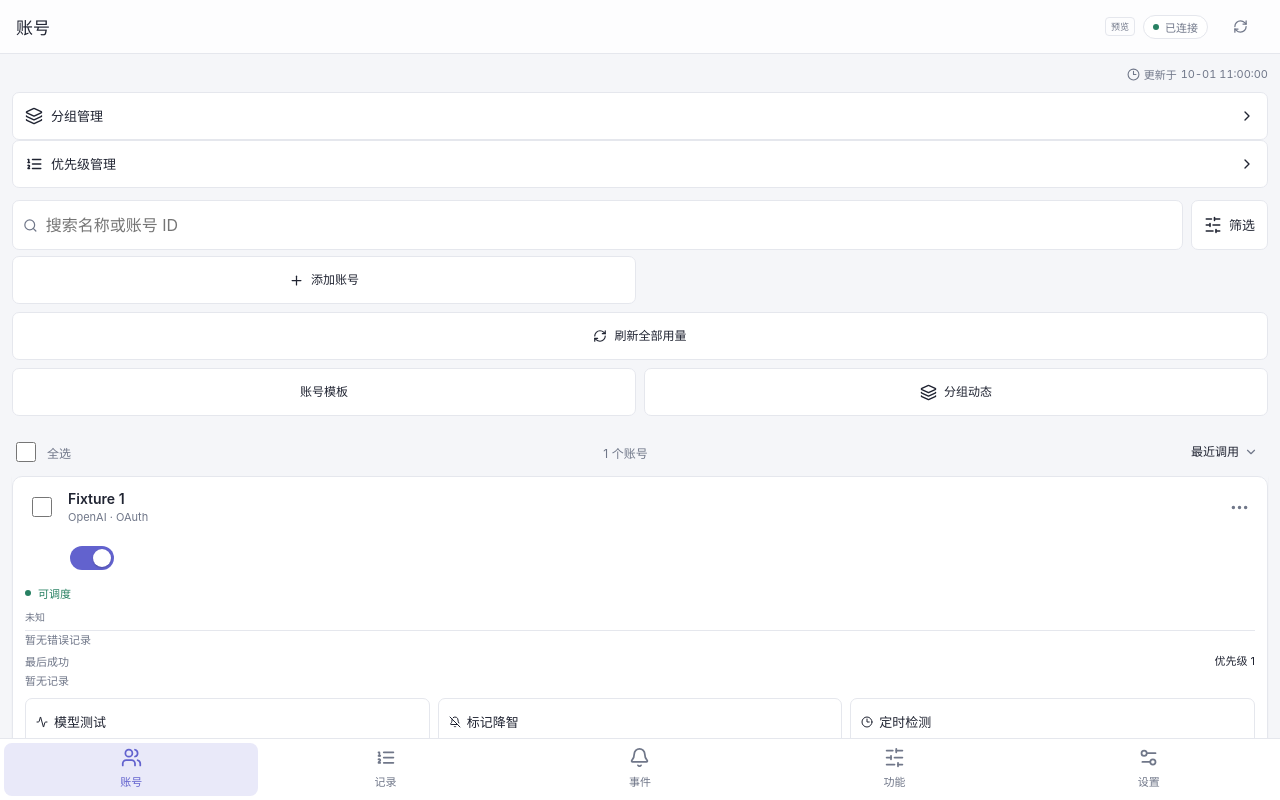
shared account actions › opens and closes account keepalive from the android account actions
Click the button named "Fixture 1操作" at (1239, 507), box [1215,483,1263,531]
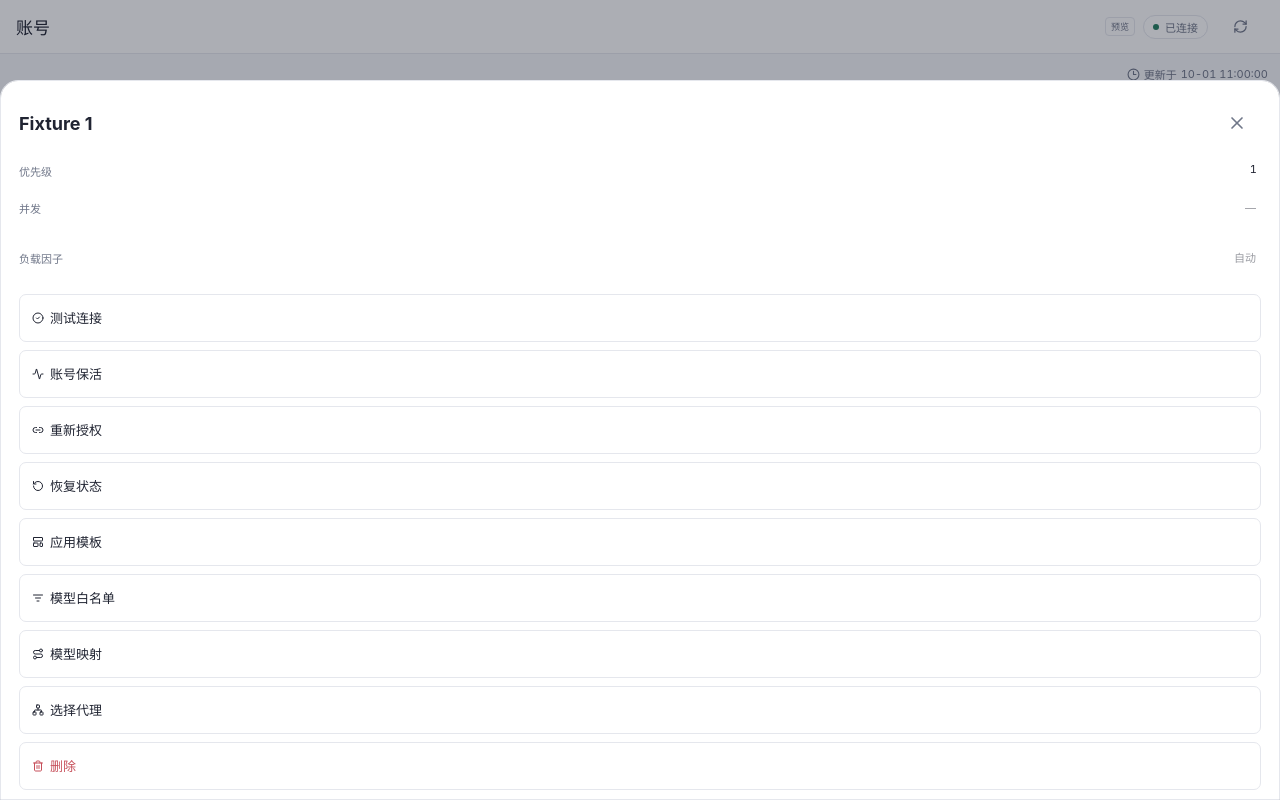
Check: the dialog with class "mobile-action-sheet" is shown
Click the button "账号保活" at (76, 374), box [19,350,1261,398]
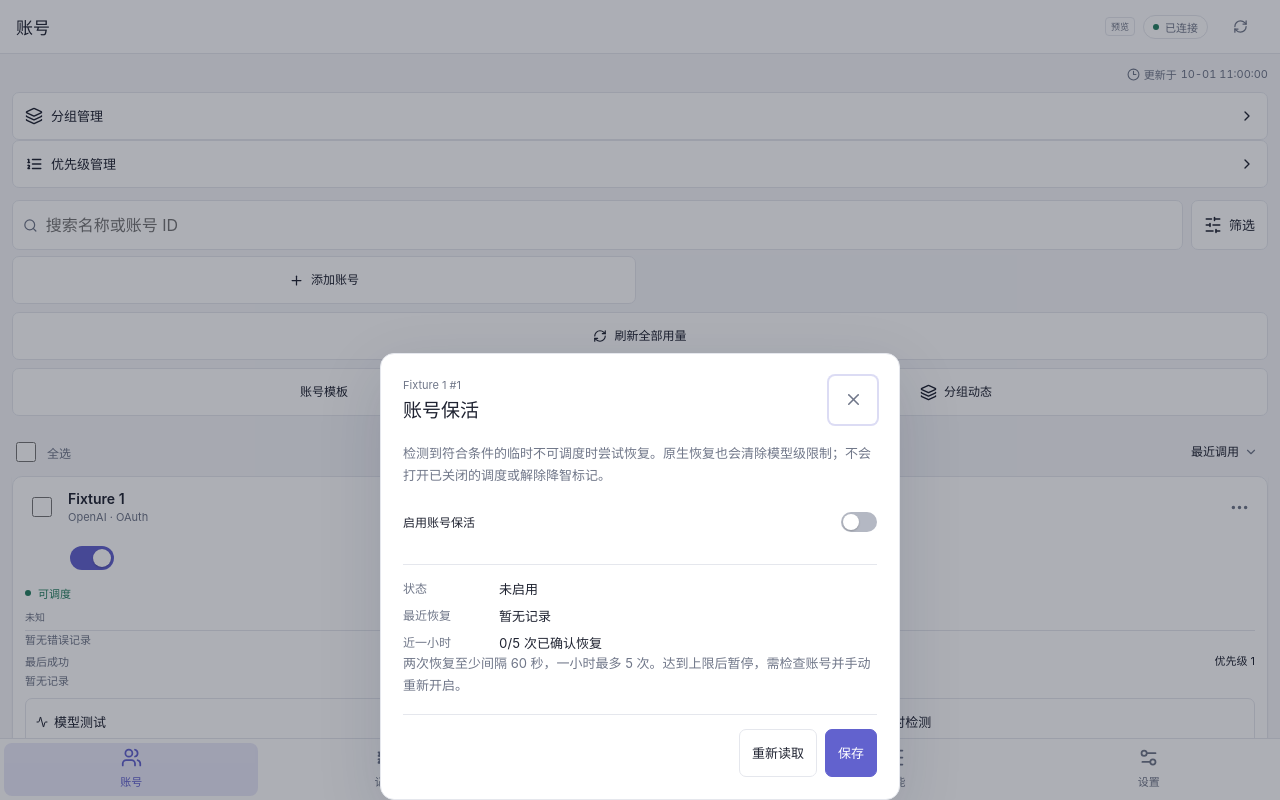
Check: the dialog named "账号保活" shows "Fixture 1", box [403,378,446,392]
Click the button named "关闭账号保活" at (853, 400), box [829,376,877,424]
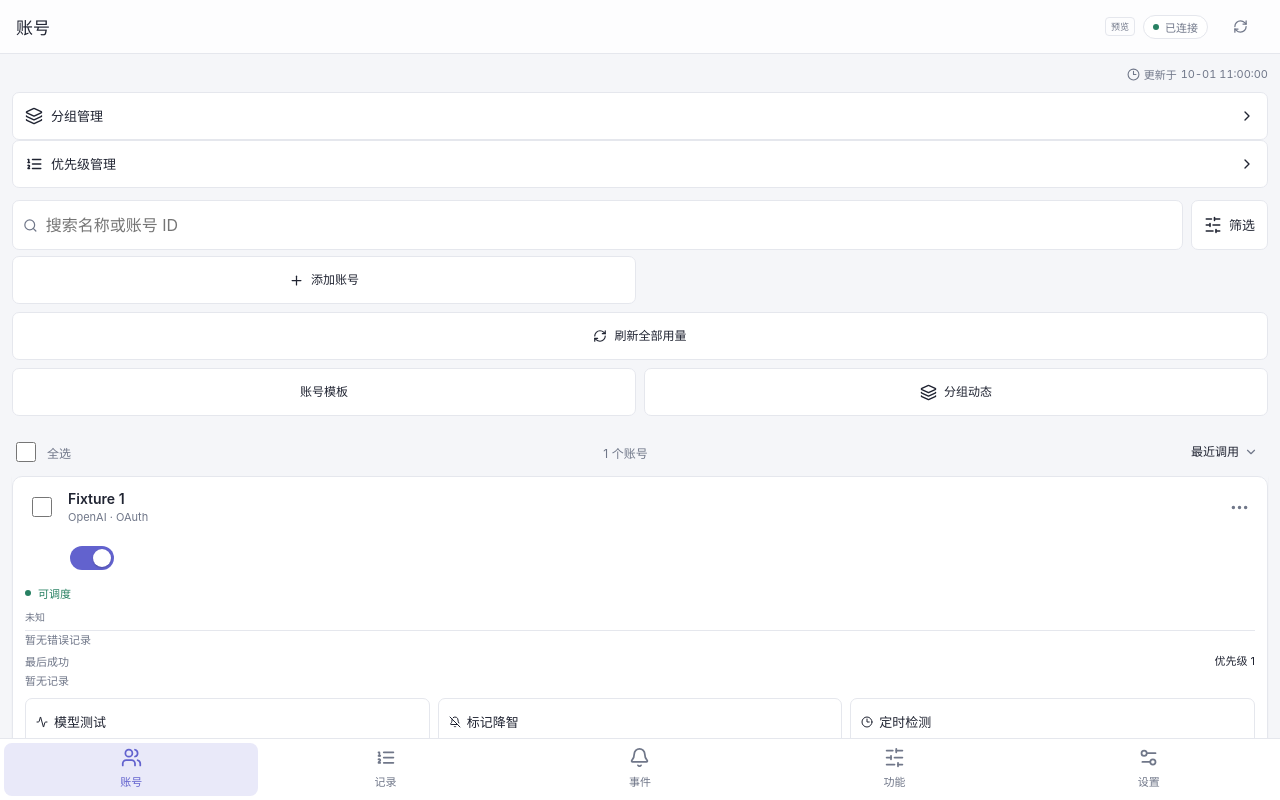
Check: the dialog named "账号保活" is gone
